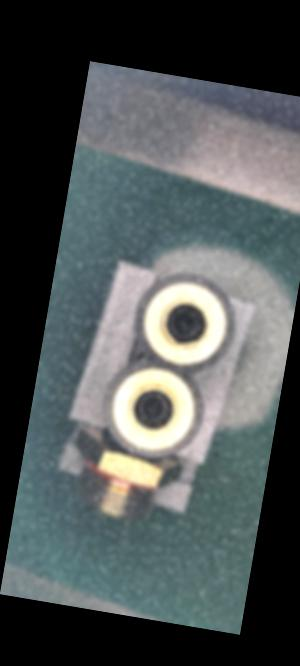bump: (166, 338, 195, 354)
off-centered: (161, 303, 205, 339)
